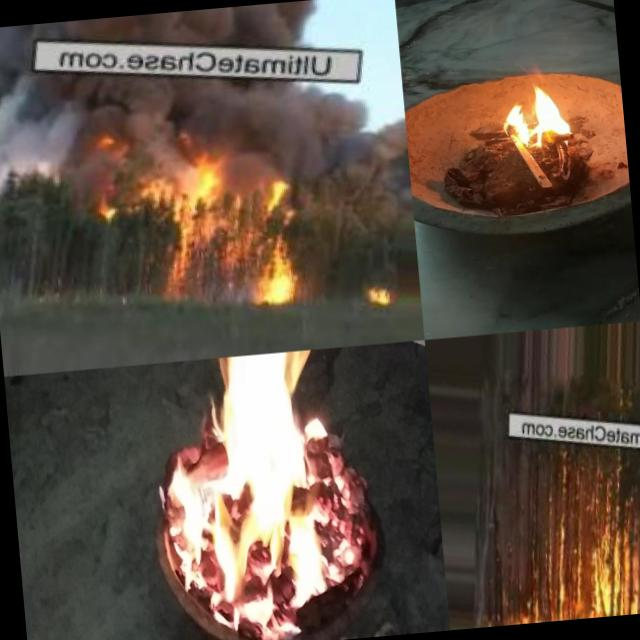fire: (142, 348, 346, 640), (328, 427, 392, 597), (149, 170, 283, 243), (495, 66, 581, 164), (572, 527, 640, 618), (248, 232, 300, 306), (498, 578, 573, 626), (364, 278, 406, 310)
smoke: (0, 87, 380, 196)
